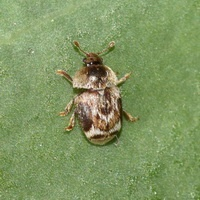insect: (56, 41, 137, 144)
